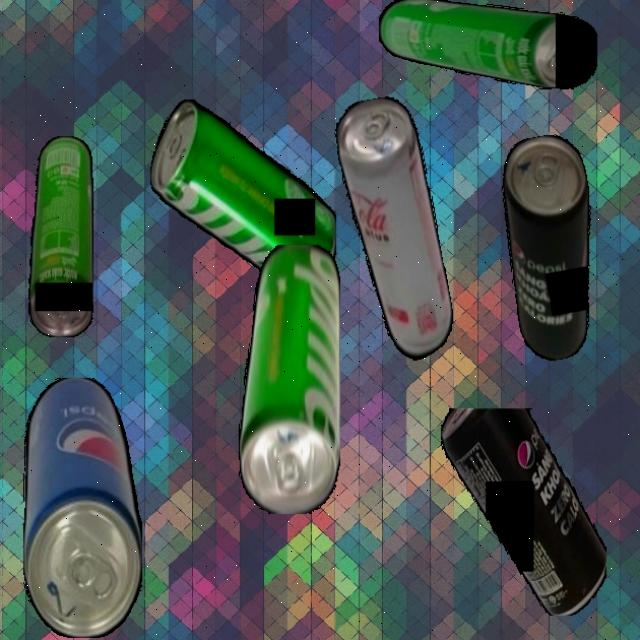debris: (150, 98, 336, 296), (330, 92, 460, 370), (440, 407, 606, 616), (22, 377, 142, 638), (488, 130, 616, 365), (238, 244, 340, 514), (377, 0, 597, 89), (28, 135, 94, 337)
